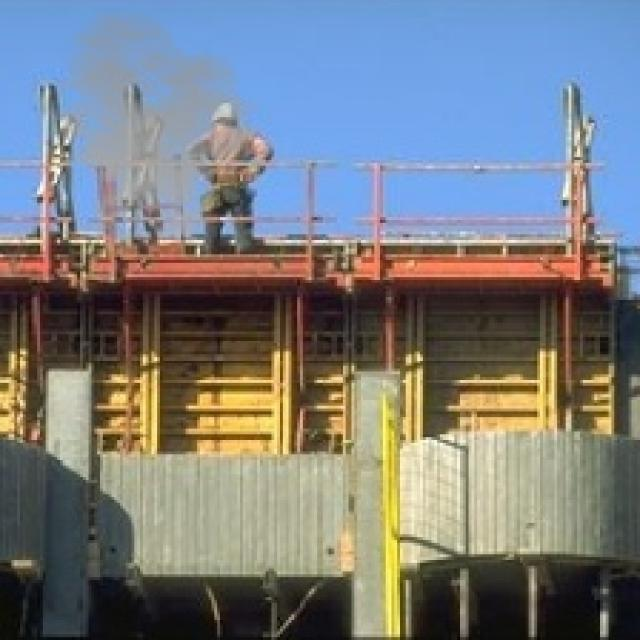Smoke: (34, 8, 263, 240)
